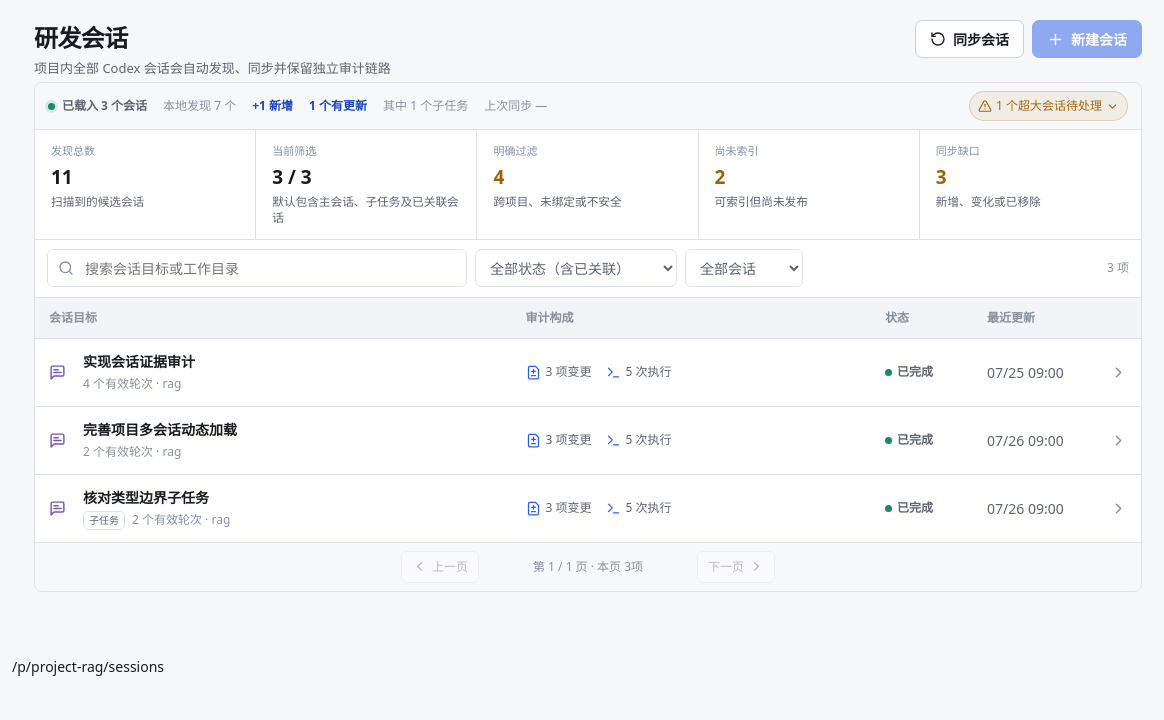
SessionOverview project session discovery › shows discovery gaps and keeps bound sessions in the default list
The width and height of the screenshot is (1164, 720).
Expected: the text "实现会话证据审计" is shown, 83,352 -> 195,371
Expected: the text "完善项目多会话动态加载" is shown, 83,420 -> 237,439
Step 1. Type "完善" into the field with placeholder "搜索会话目标或工作目录" → [270, 268], box 83,256 -> 456,280
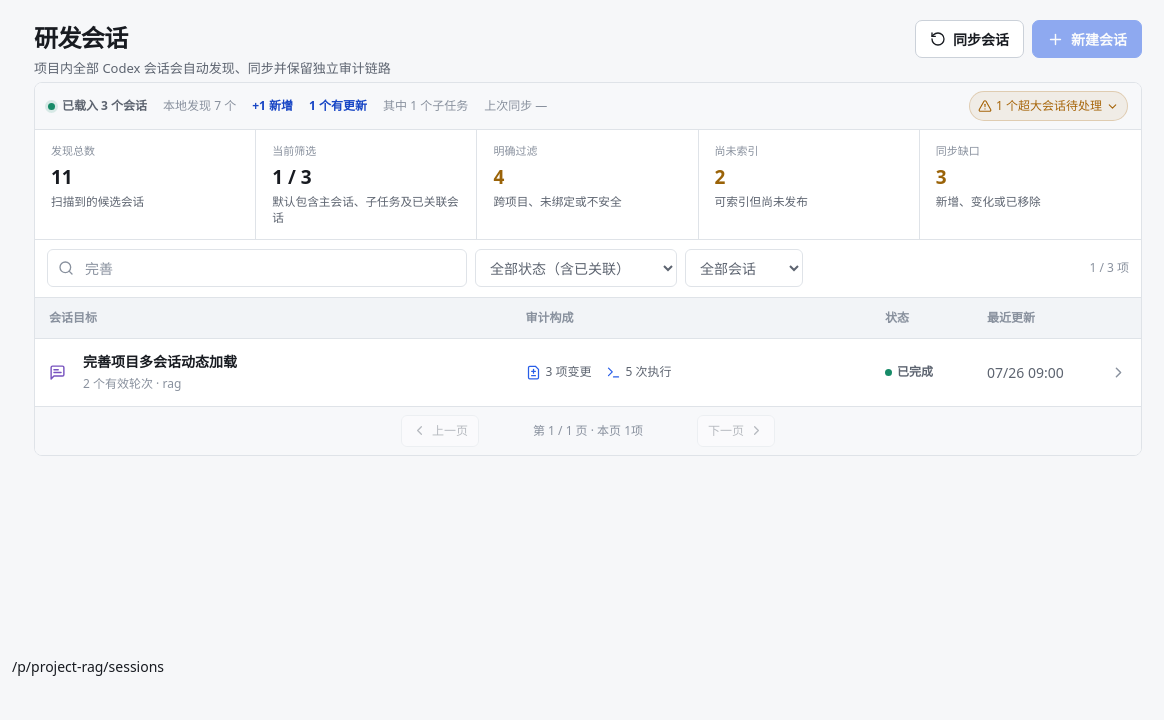
Expected: the element showing "当前筛选 1 / 3 默认包含主会话、子任务及已关联会话" is shown, 256,130 -> 477,238
Now the text "1 / 3" is shown, box 272,164 -> 312,190
Step 2. Clear the field with placeholder "搜索会话目标或工作目录" → [270, 268], box 83,256 -> 456,280
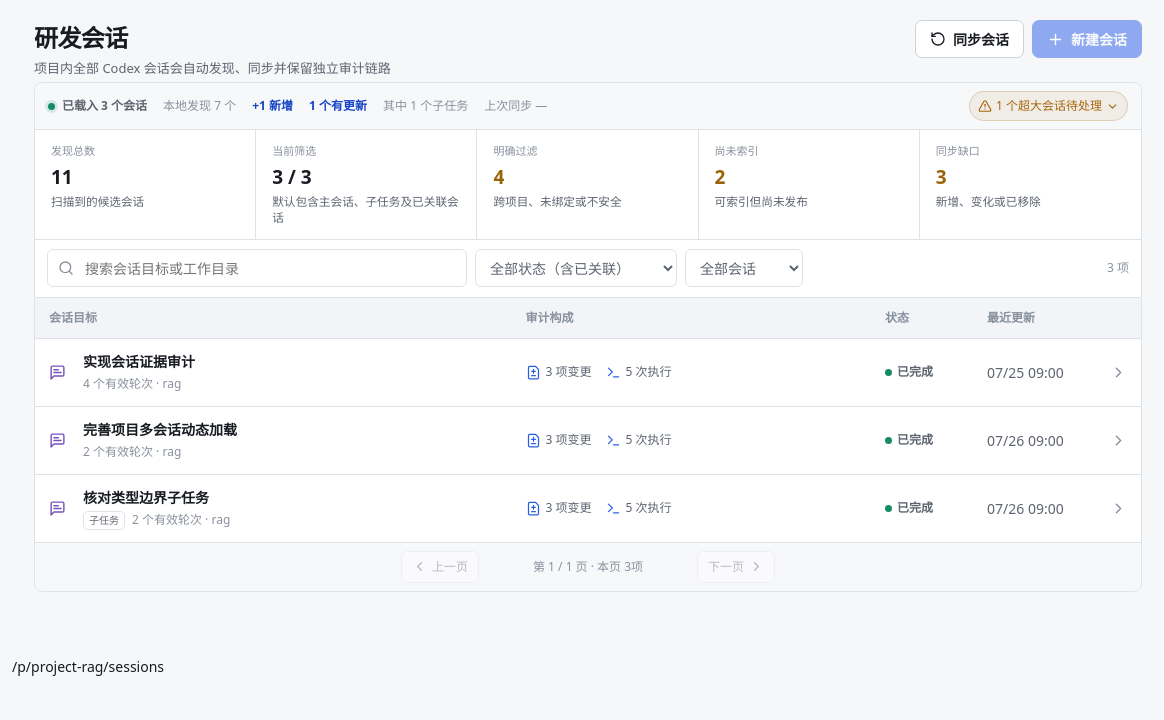
Step 3. Select "子任务" in the dropdown named "筛选会话类型" → [744, 268], box 685,249 -> 803,287
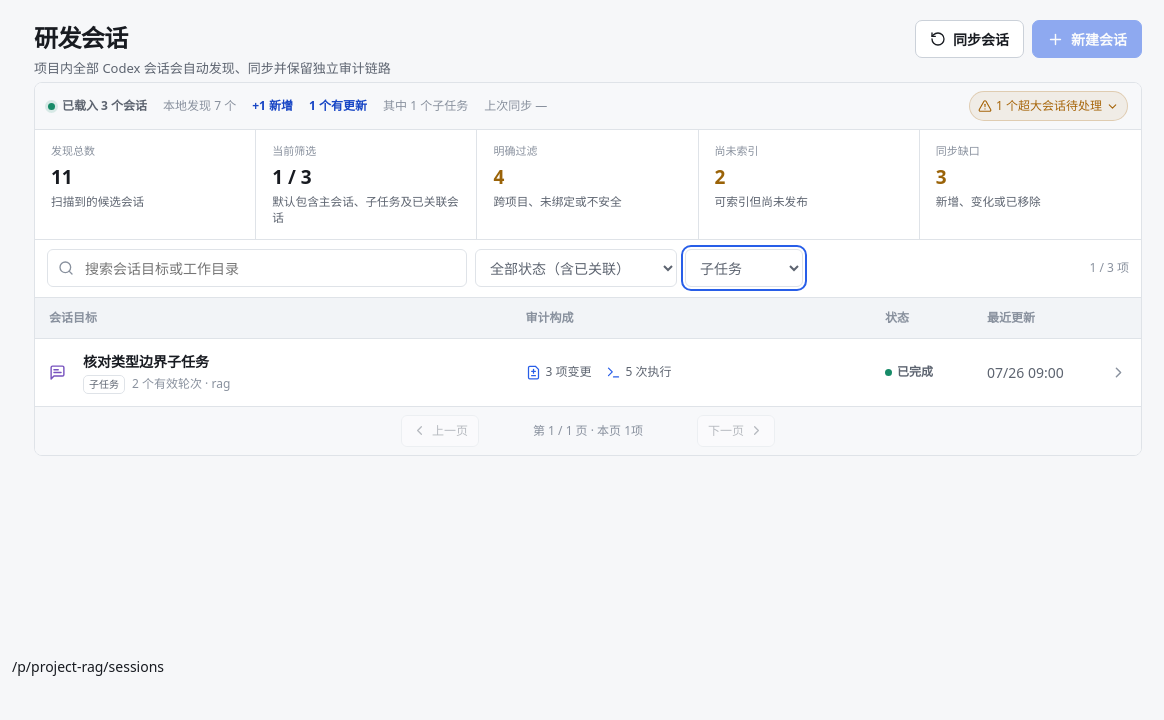
Now the text "核对类型边界子任务" is shown, box 83,352 -> 209,370
Now the text "1 / 3" is shown, box 272,164 -> 312,190
Now the button "实现会话证据审计" is gone
